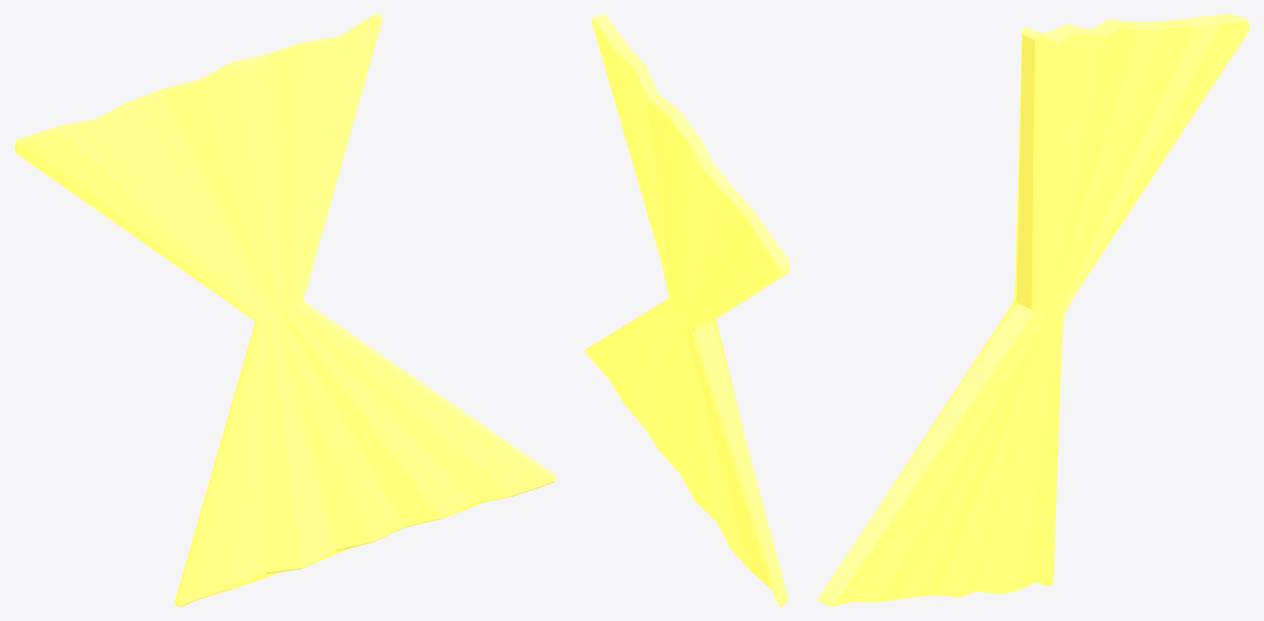
3 renders of one model, left to right at view 1: azimuth 30°, elevation 25°; view 2: azimuth 150°, elevation 25°; view 3: azimuth 270°, elevation 25°, orthographic. The views are drawn at different scales.
Visible parts, largest first — view 1: Plane.013; view 2: Plane.013; view 3: Plane.013.
Part boxes in pixels (left/top/right/bottom): Plane.013: left=14, top=14, right=556, bottom=606; Plane.013: left=585, top=14, right=789, bottom=606; Plane.013: left=818, top=14, right=1249, bottom=606.
Size of the model in its own units: 1.33 by 1.86 by 1.09.
